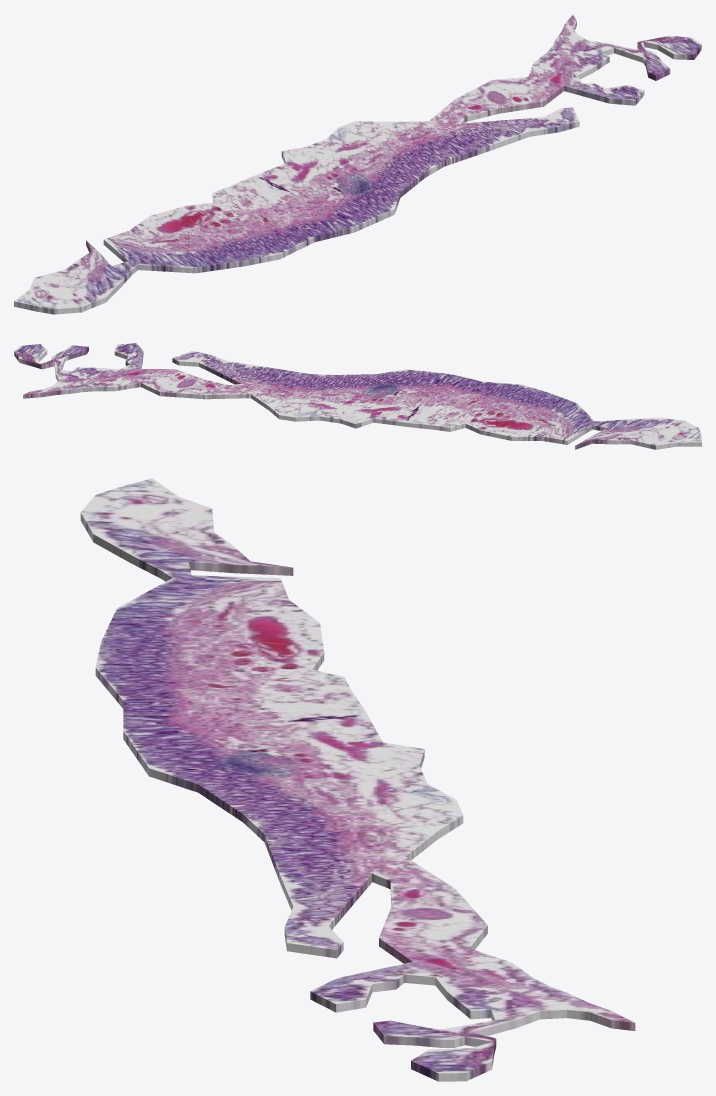
3 views of the same model, one above another, from view 1: azimuth 30°, elevation 25°; view 2: azimuth 150°, elevation 25°; view 3: azimuth 270°, elevation 25° (orthographic). The views are drawn at different scales.
Visible parts, largest first — view 1: 平面; view 2: 平面; view 3: 平面.
Part boxes in pixels (left/top/right/bottom): 平面: left=14, top=14, right=701, bottom=314; 平面: left=14, top=343, right=701, bottom=449; 平面: left=80, top=478, right=635, bottom=1081.
Bounding box in the file's own units: 21.52 × 0.14 × 8.48.
1 material, 1 textured.
